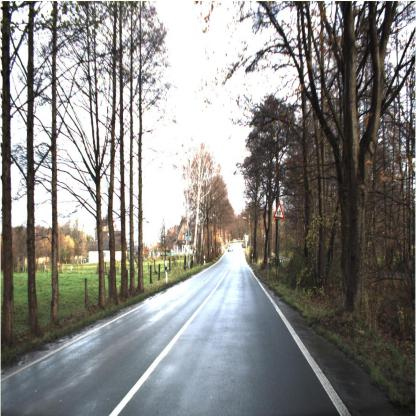danger: (272, 197, 286, 226)
